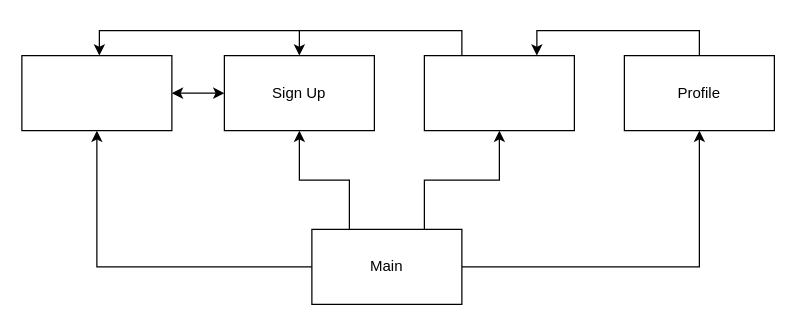
Image size: 796x326. Some labels were removed from this diagram. The shapes that lost their labels are listed below. From the top down, each one's centre as x and y in pixels, then its label:
the point at 96,92: Sign In
the point at 498,92: About
